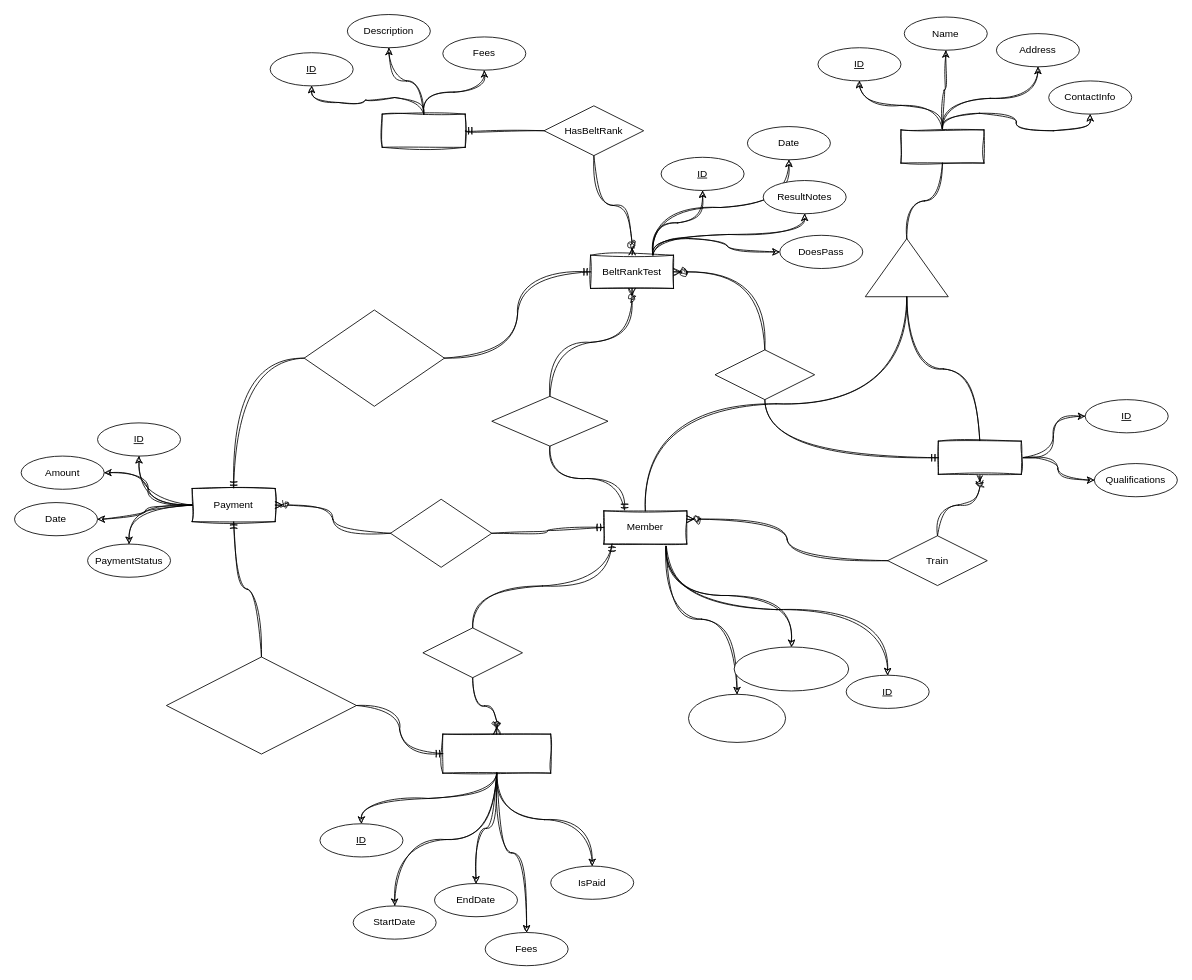
This 1192x980 diagram has some shape labels left out. Each missing label, with the box of its shape:
BeltRank: (381, 113, 465, 147)
BeltRankTestPayment: (303, 309, 444, 406)
EmergencyContact: (688, 693, 786, 742)
Have: (422, 627, 522, 678)
Instructor: (937, 440, 1021, 474)
Instructs: (714, 349, 815, 400)
ISA: (864, 238, 948, 297)
MembershipStatus: (733, 646, 849, 691)
Participate: (491, 395, 608, 446)
Pay: (390, 498, 492, 567)
Person: (900, 129, 984, 163)
SubscriptionPeriod: (442, 733, 551, 773)
SubscriptionPeriodPayment: (166, 656, 356, 754)
